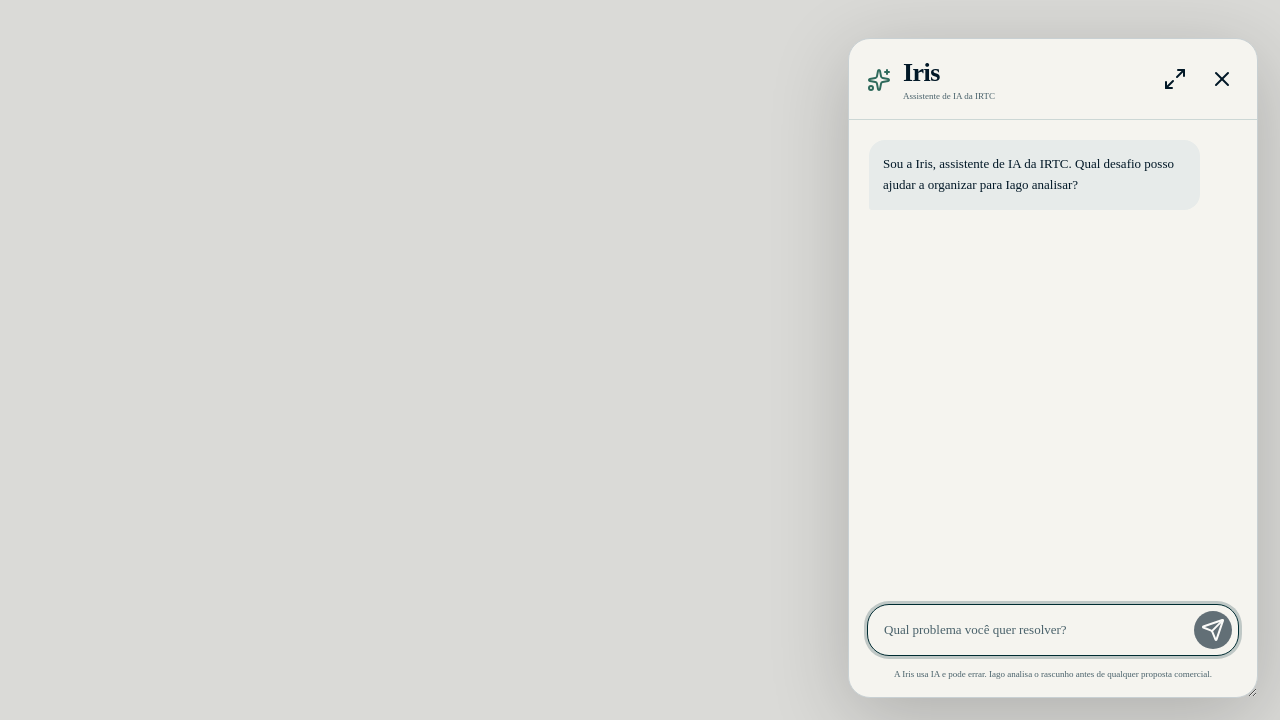
Scenario: Iris dialog › shows a transport error as a notice that cannot become a draft
Type "Oi" into the text box named "Sua mensagem" at x=1033, y=630, box [884,611,1182,648]
Then press Enter
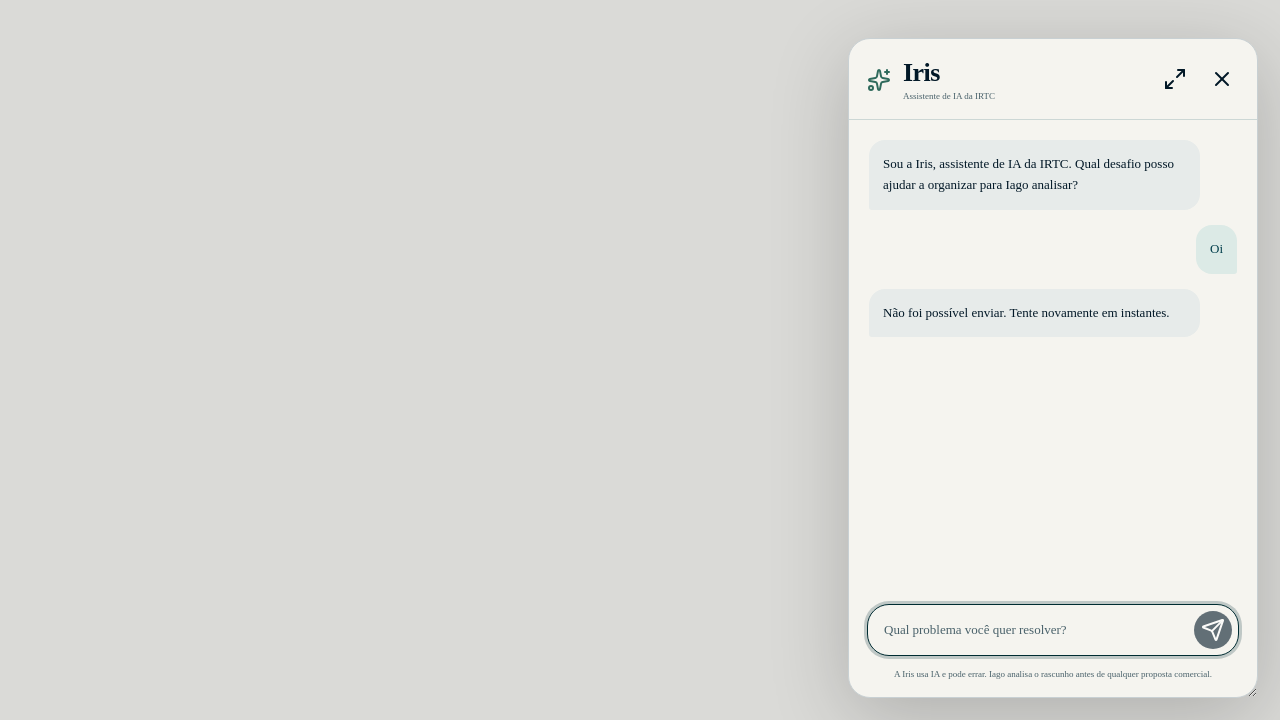
Check: the text "Não foi possível enviar. Tente novamente em instantes." is shown, box [883,303,1186,323]
